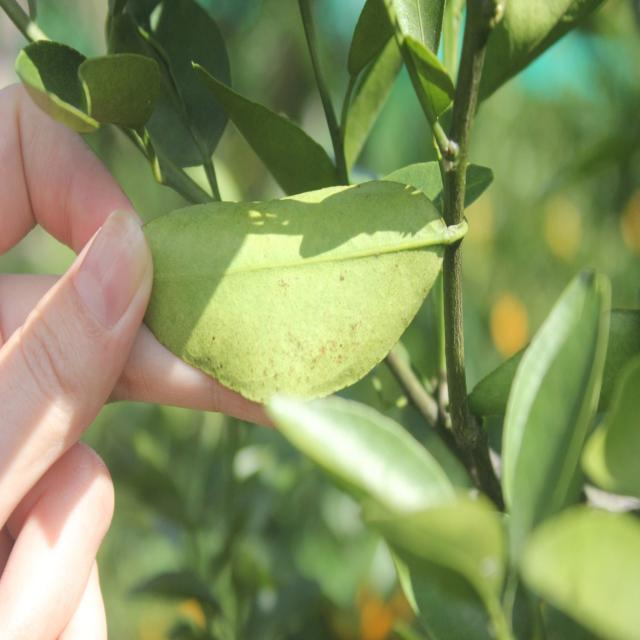melanose: (157, 180, 448, 405)
